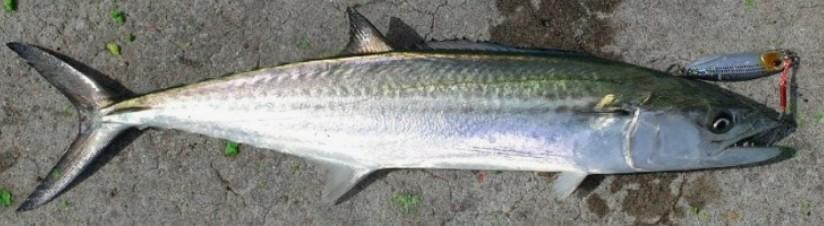fish: (7, 10, 799, 213)
